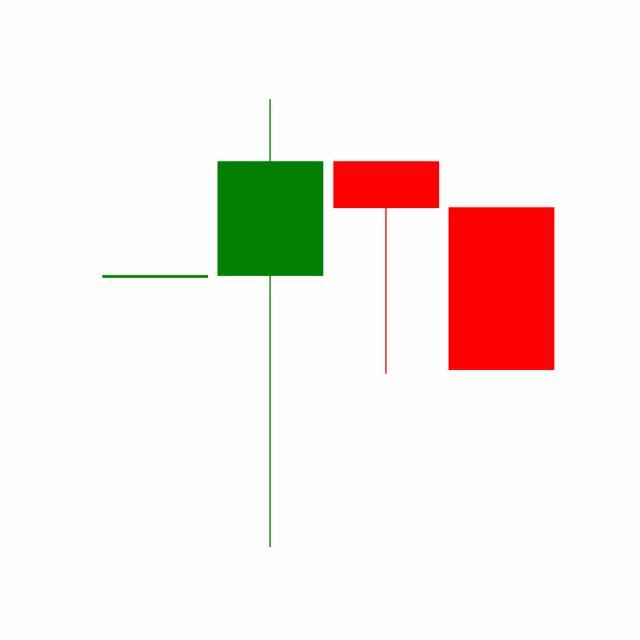Marubozu: (444, 205, 560, 372)
